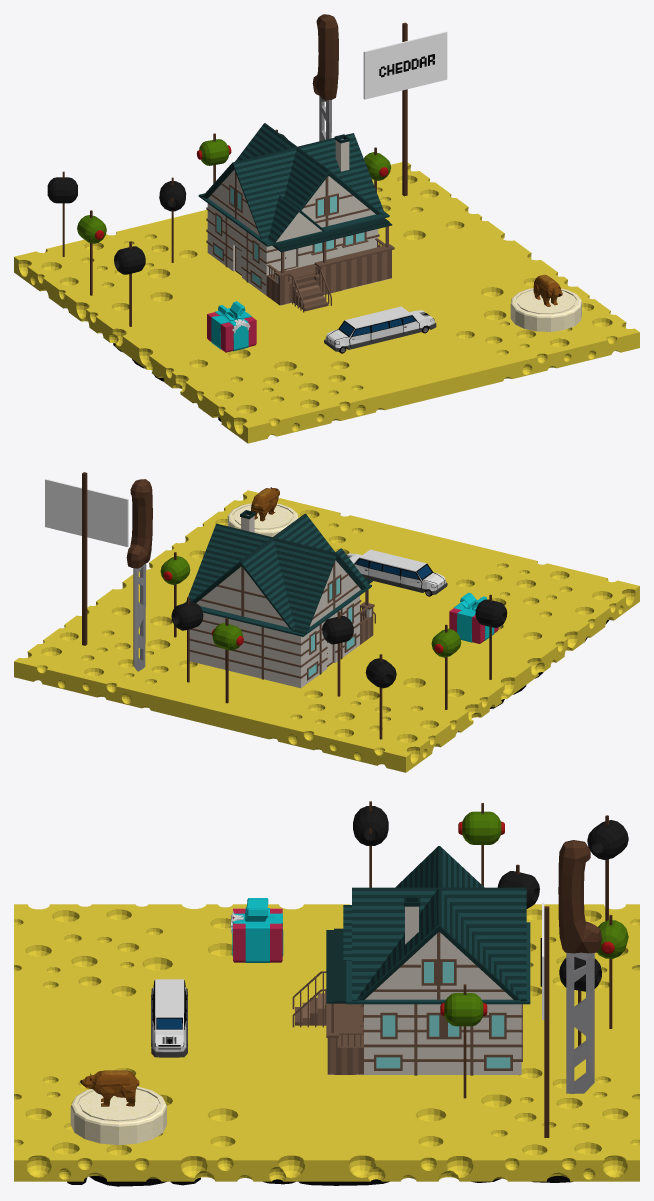
The picture shows the model from 3 angles, top to bottom: view 1: azimuth 30°, elevation 25°; view 2: azimuth 150°, elevation 25°; view 3: azimuth 270°, elevation 25°; orthographic projection. The views are drawn at different scales.
Visible parts, largest first — view 1: Cube.022, Cube.793, Cube.023, VEHICLES_LIMOUSINE, Cylinder.016, Cube.024, OBJRANDOM_GIANT_PRESENT, Sphere.017, Sphere.016, Sphere.020, Sphere.018, Sphere.022 (+2 smaller); view 2: Cube.022, Cube.793, Cube.023, Cube.024, VEHICLES_LIMOUSINE, OBJRANDOM_GIANT_PRESENT, Cylinder.016, Sphere.020, Sphere.016, Sphere.022, Sphere.017, Sphere.021 (+3 smaller); view 3: Cube.022, Cube.793, Cube.024, Cylinder.016, OBJRANDOM_GIANT_PRESENT, VEHICLES_LIMOUSINE, Cube.023, Sphere.019, Sphere.016, Sphere.018, ANIMAL_OSO, Curve.014 (+4 smaller).
Part boxes in pixels (x1,y1,x2,y2): Cube.022: (14,162,639,443); Cube.793: (198,123,394,312); Cube.023: (363,22,447,196); VEHICLES_LIMOUSINE: (324,306,436,353); Cylinder.016: (510,288,581,331); Cube.024: (312,14,338,141); OBJRANDOM_GIANT_PRESENT: (207,301,256,352); Sphere.017: (114,241,145,326); Sphere.016: (47,171,77,256); Sphere.020: (159,177,186,262); Sphere.018: (77,210,106,295); Sphere.022: (196,133,231,183); Cube.022: (14,490,639,772); Cube.793: (184,510,375,688); Cube.023: (45,472,128,645); Cube.024: (126,479,152,671); VEHICLES_LIMOUSINE: (347,549,447,596); OBJRANDOM_GIANT_PRESENT: (449,592,498,643); Cylinder.016: (227,503,298,536); Sphere.020: (322,611,353,696); Sphere.016: (365,654,396,739); Sphere.022: (212,618,243,703); Sphere.017: (475,594,507,679); Sphere.021: (171,597,203,682); Cube.022: (14,904,639,1181); Cube.793: (292,846,530,1075); Cube.024: (558,840,602,1093); Cylinder.016: (70,1086,166,1145); OBJRANDOM_GIANT_PRESENT: (230,898,283,962); VEHICLES_LIMOUSINE: (151,979,187,1057); Cube.023: (540,902,549,1137); Sphere.019: (440,984,487,1098); Sphere.016: (587,815,628,920); Sphere.018: (458,803,504,886); ANIMAL_OSO: (80,1070,139,1106); Curve.014: (67,1176,572,1186).
Bounding box in the file's own units: 3917 × 1980 × 4000.
Materials: 30 (4 with a texture image).
